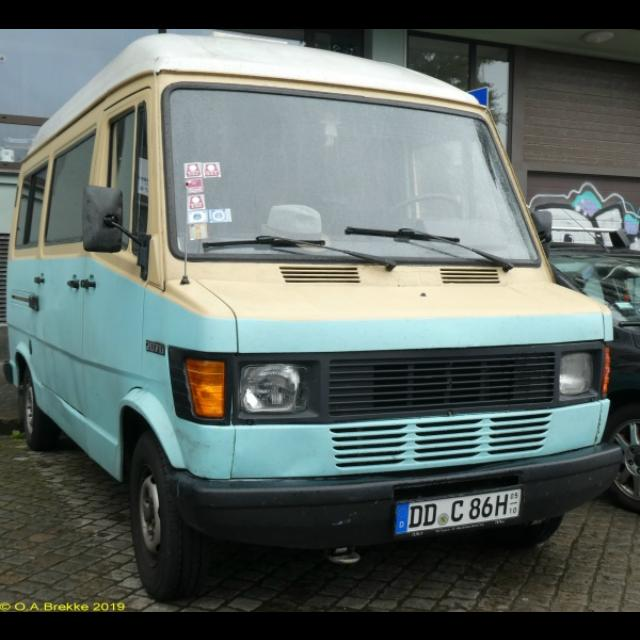d_license_plate: (396, 485, 520, 531)
